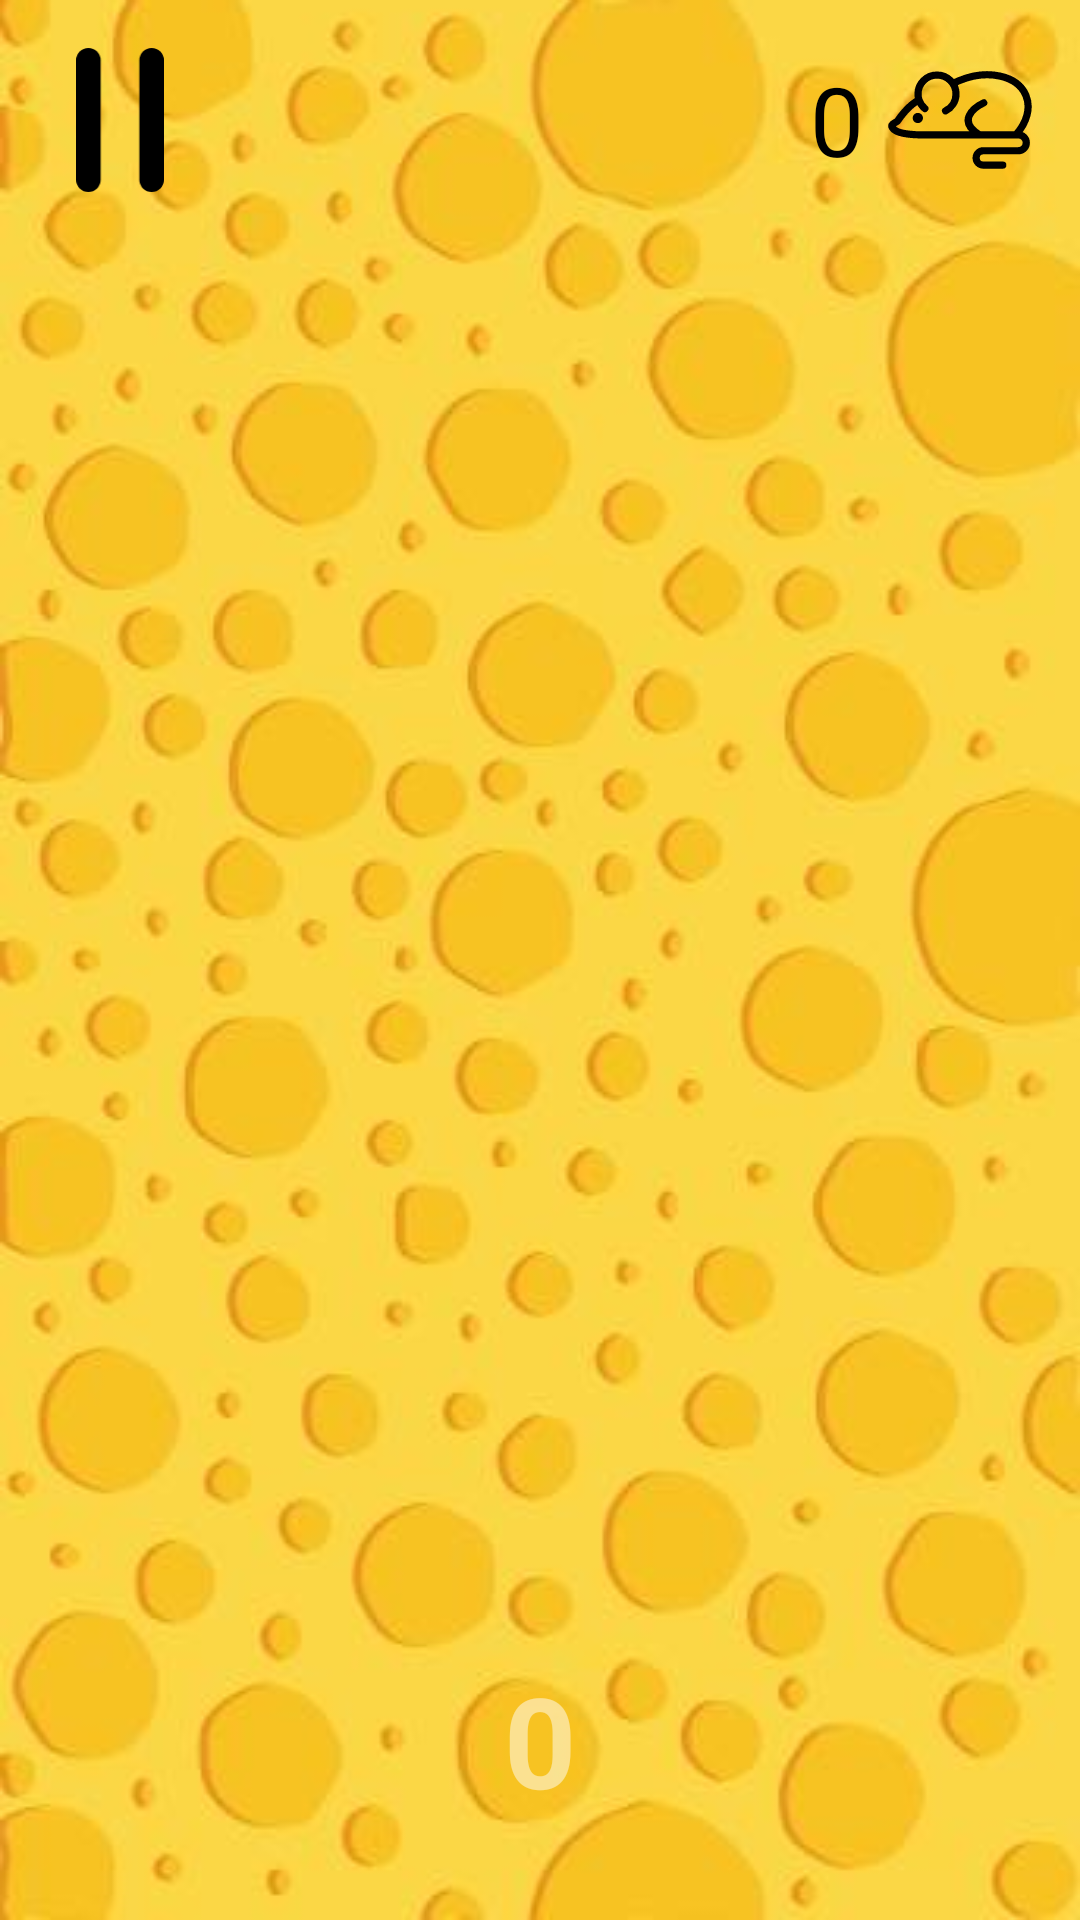

Icon click points for this 1080 × 1920 phone screenshot, format point (x, y):
mouse: point (960, 120)
pause: point (120, 120)
